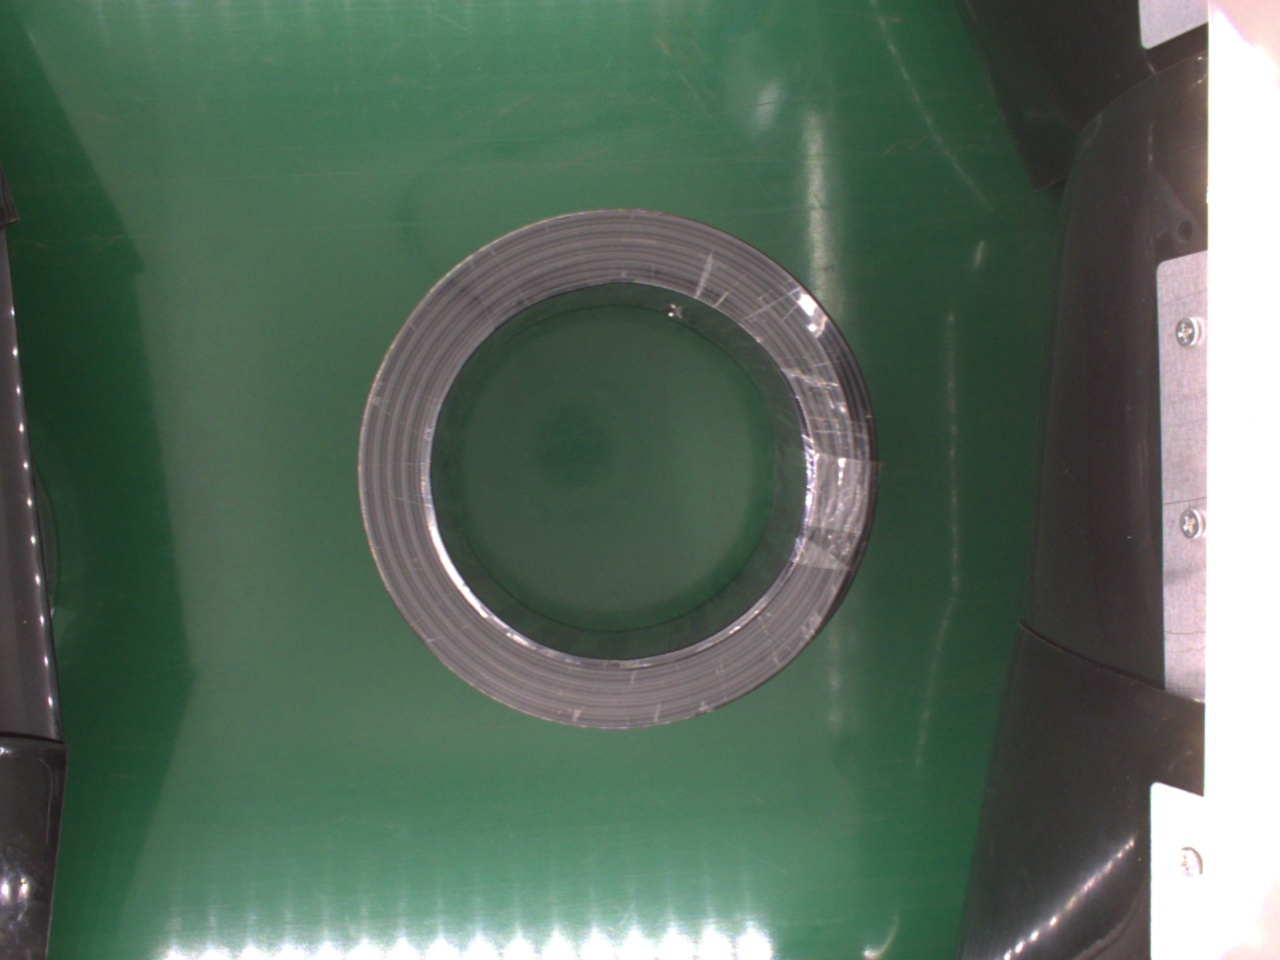black: (351, 205, 878, 730)
